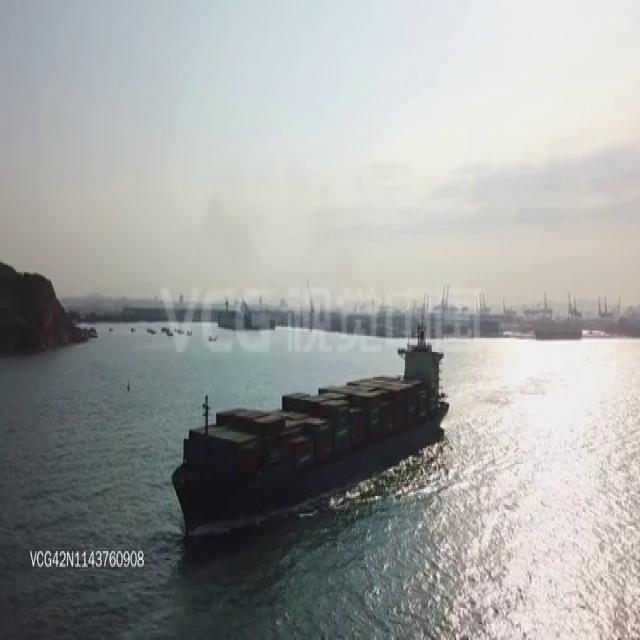cargoship: (172, 318, 449, 538)
